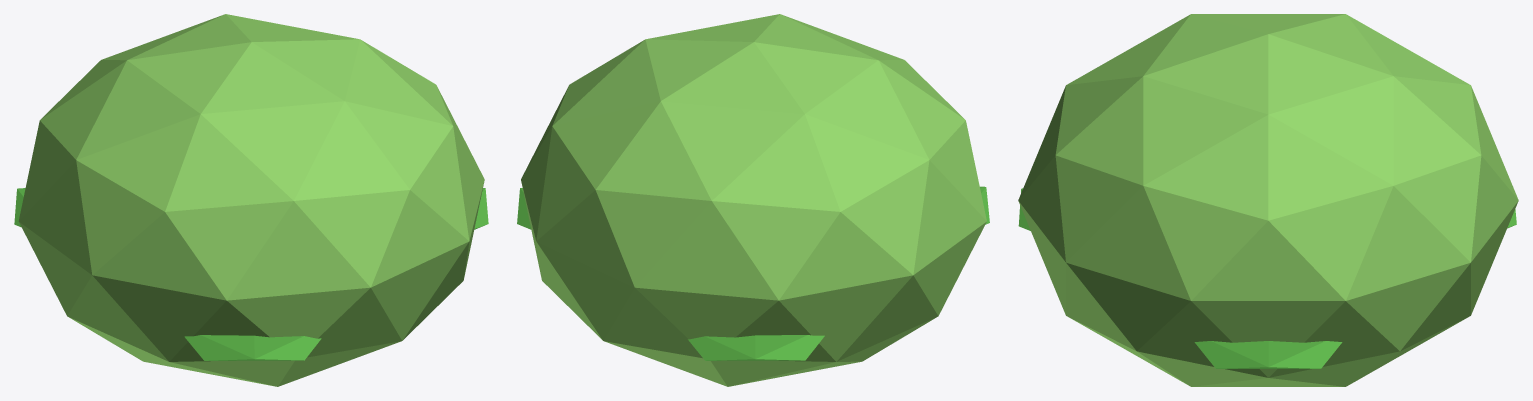
File: harvest_drop_cabbage.glb
The picture shows the model from 3 angles, left to right: view 1: azimuth 30°, elevation 25°; view 2: azimuth 150°, elevation 25°; view 3: azimuth 270°, elevation 25°; orthographic projection. The views are drawn at different scales.
Visible parts, largest first — view 1: FTF_Harvest_Drop_Cabbage_Mesh; view 2: FTF_Harvest_Drop_Cabbage_Mesh; view 3: FTF_Harvest_Drop_Cabbage_Mesh.
Boxes of the visible parts, box(x1,y1,x2,y2) form: FTF_Harvest_Drop_Cabbage_Mesh: box(14, 14, 488, 386); FTF_Harvest_Drop_Cabbage_Mesh: box(517, 14, 989, 386); FTF_Harvest_Drop_Cabbage_Mesh: box(1018, 14, 1518, 386).
Bounding box in the file's own units: 0.6254 × 0.44 × 0.6.
